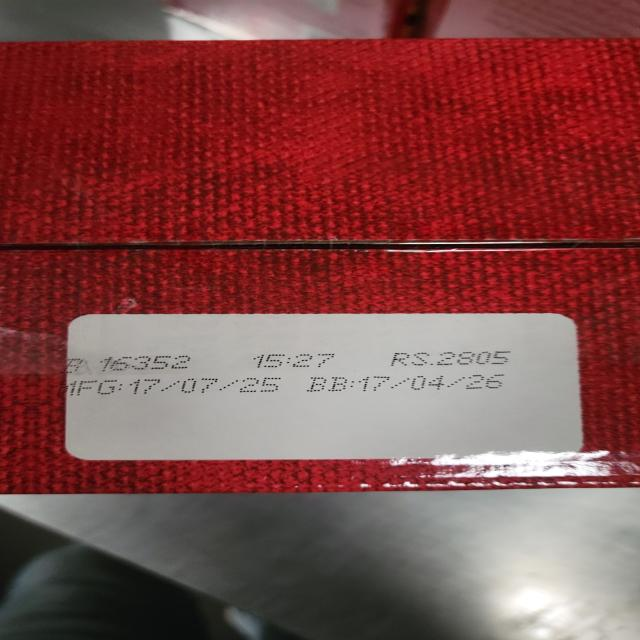BB: (295, 375, 532, 395)
Batch: (55, 354, 205, 374)
MFG: (54, 378, 291, 398)
RS: (389, 348, 527, 372)
TimeStamp: (253, 352, 344, 372)
